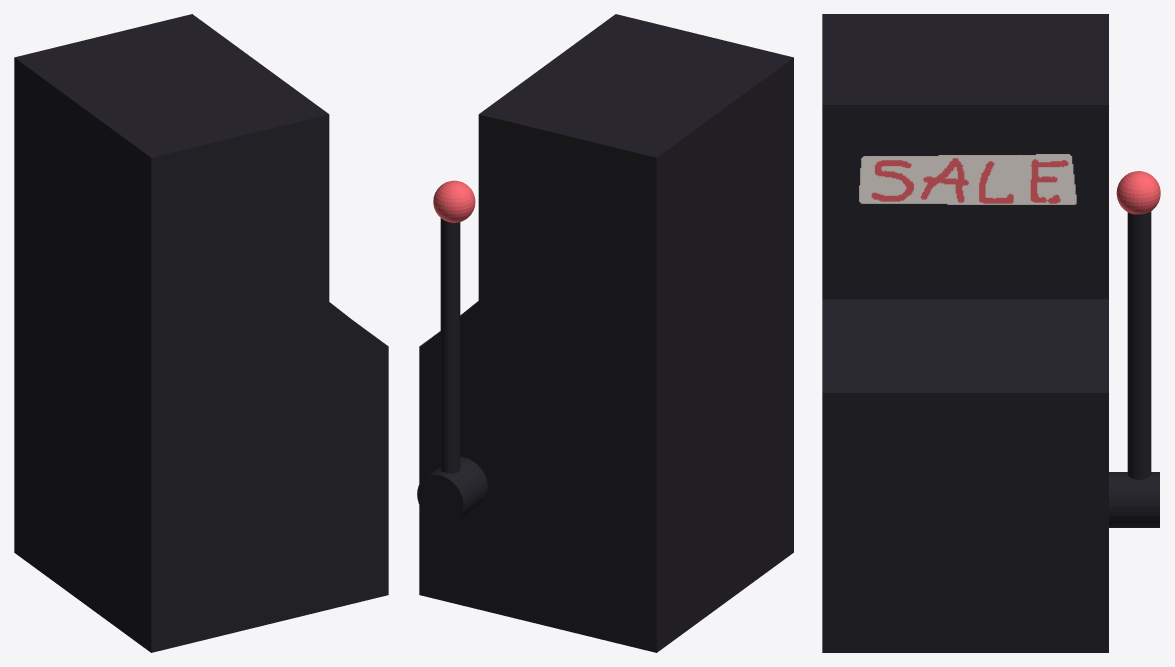
The model's file is SaleAutomat.fbx.
3 views of the same model, side by side, from view 1: azimuth 30°, elevation 25°; view 2: azimuth 150°, elevation 25°; view 3: azimuth 270°, elevation 25° (orthographic). The views are drawn at different scales.
Visible parts, largest first — view 1: Cube, Cube.001; view 2: Cube, Cube.001, Cube.002, Cube.003, Cube.004; view 3: Cube, Cube.001, Cube.002, Cube.003, Cube.004.
Part boxes in pixels (x1,y1,x2,y2): Cube: [14, 14, 388, 406]; Cube.001: [14, 306, 388, 652]; Cube: [419, 14, 793, 406]; Cube.001: [419, 306, 793, 652]; Cube.002: [440, 218, 460, 473]; Cube.003: [417, 457, 487, 524]; Cube.004: [433, 180, 475, 222]; Cube: [822, 14, 1108, 392]; Cube.001: [822, 392, 1108, 652]; Cube.002: [1127, 211, 1151, 479]; Cube.003: [1109, 472, 1159, 527]; Cube.004: [1116, 171, 1160, 214].
Size of the model in its own units: 200 by 399 by 236.
